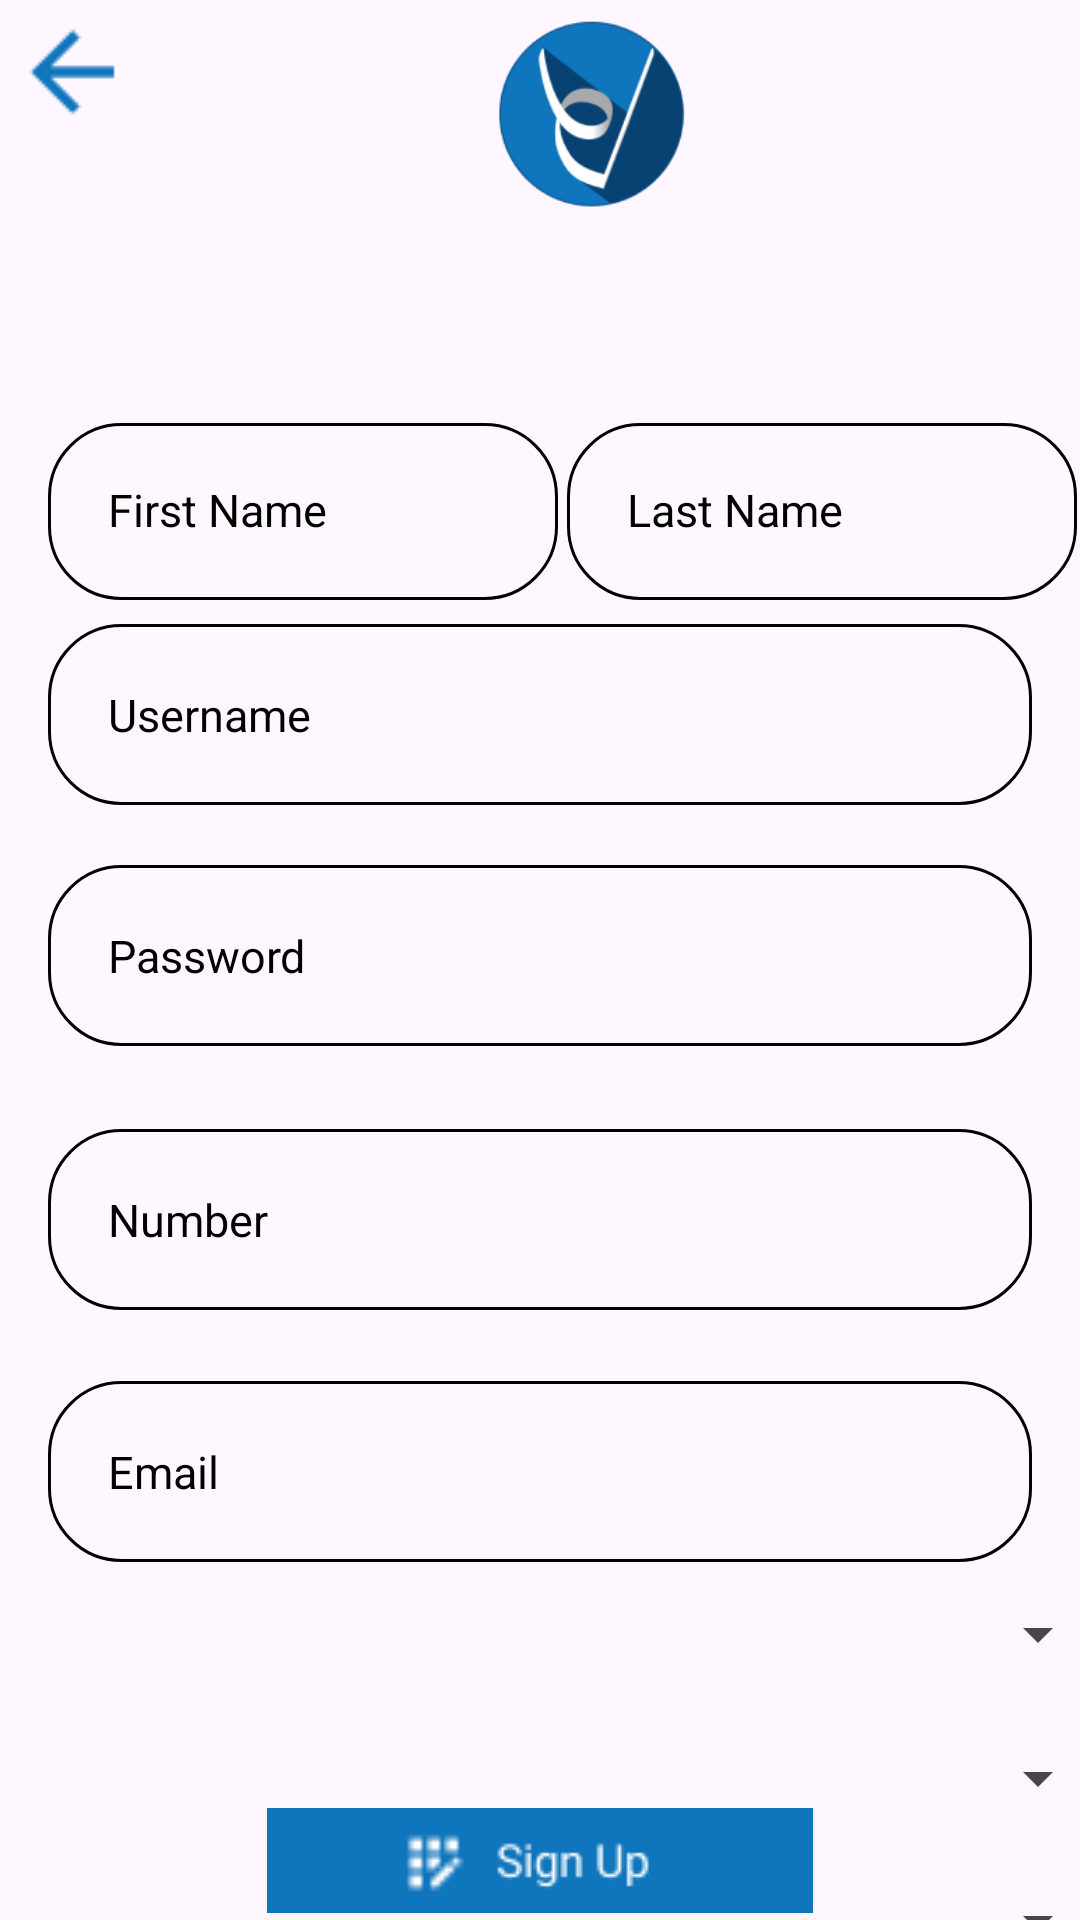

Named icons in this screenshot (1080px×1920px) and their centers, (x=x, y=y):
arrow: (x=72, y=72)
